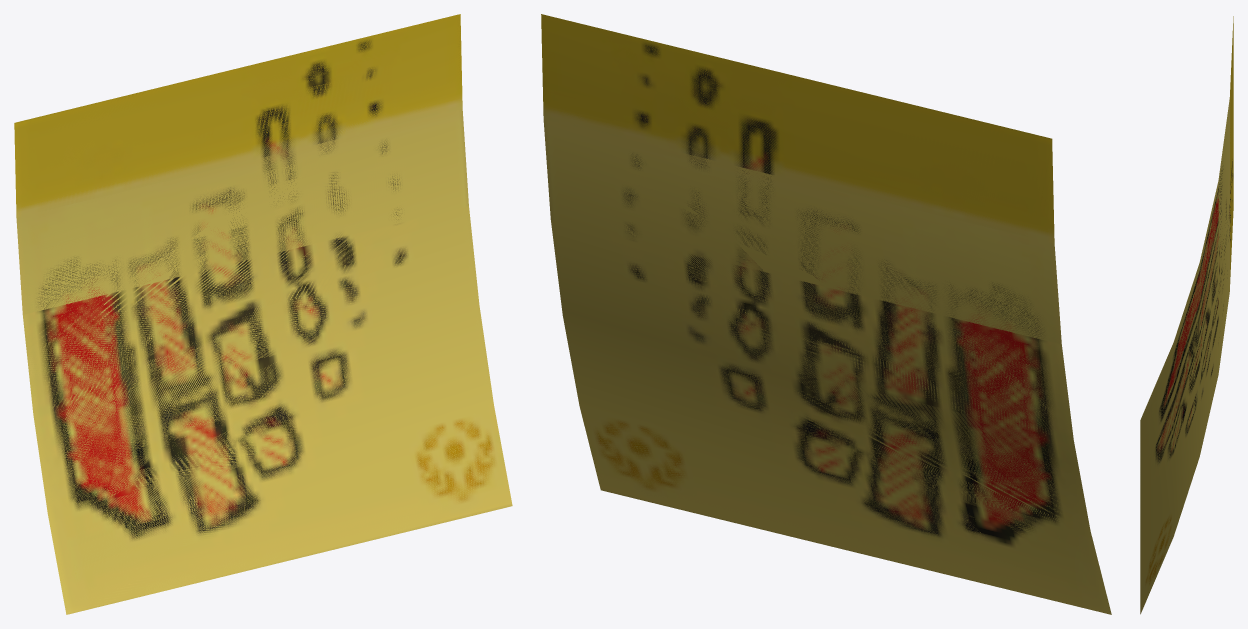
Rendered from notes_herber_postit_1.dae.
The picture shows the model from 3 angles, left to right: view 1: azimuth 30°, elevation 25°; view 2: azimuth 150°, elevation 25°; view 3: azimuth 270°, elevation 25°; orthographic projection. The views are drawn at different scales.
Parts seen in each view (by area): view 1: postit_1; view 2: postit_1; view 3: postit_1.
Part boxes in pixels (box(x1,y1,x2,y2)): postit_1: box(14, 14, 512, 614); postit_1: box(541, 14, 1111, 614); postit_1: box(1140, 16, 1233, 614).
Bounding box in the file's own units: 0.0875 × 0.0851 × 0.0177.
